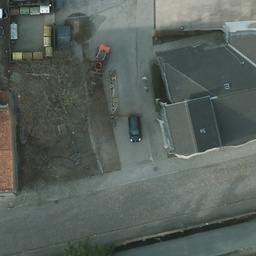car: (127, 115, 141, 143), (0, 23, 4, 40)
